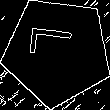L_E: (31, 33, 83, 70)
